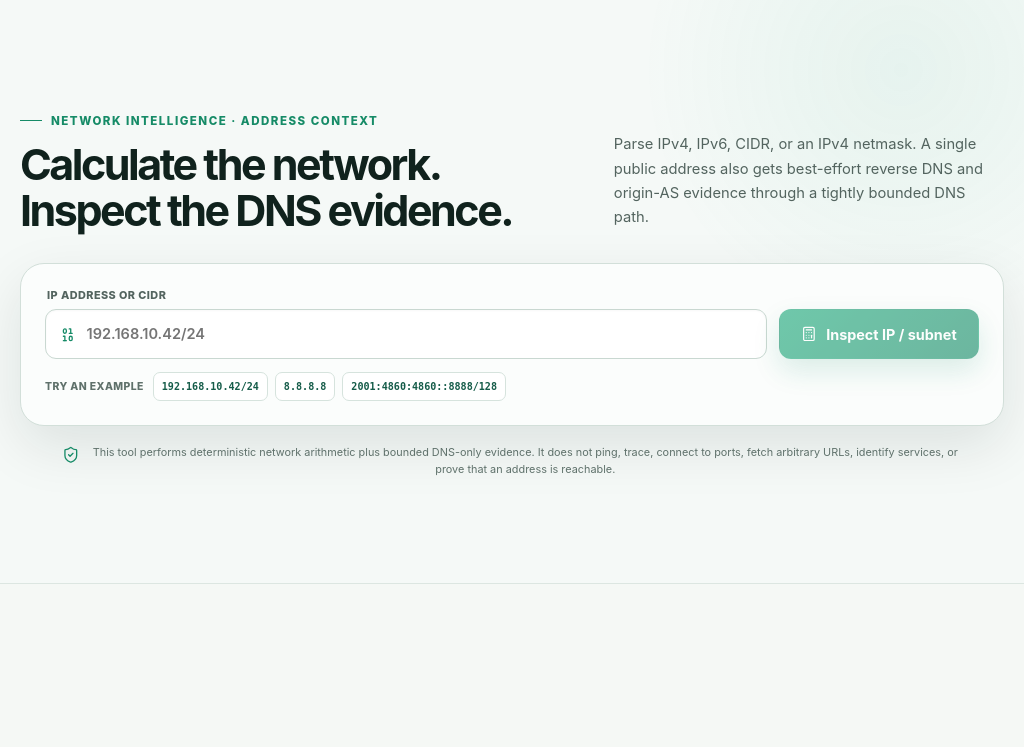
Test: IP and subnet interactions › shows sanitized API errors without retaining an old result
The width and height of the screenshot is (1024, 747).
Click the button "8.8.8.8". click: (305, 387)
box: [275, 372, 335, 401]
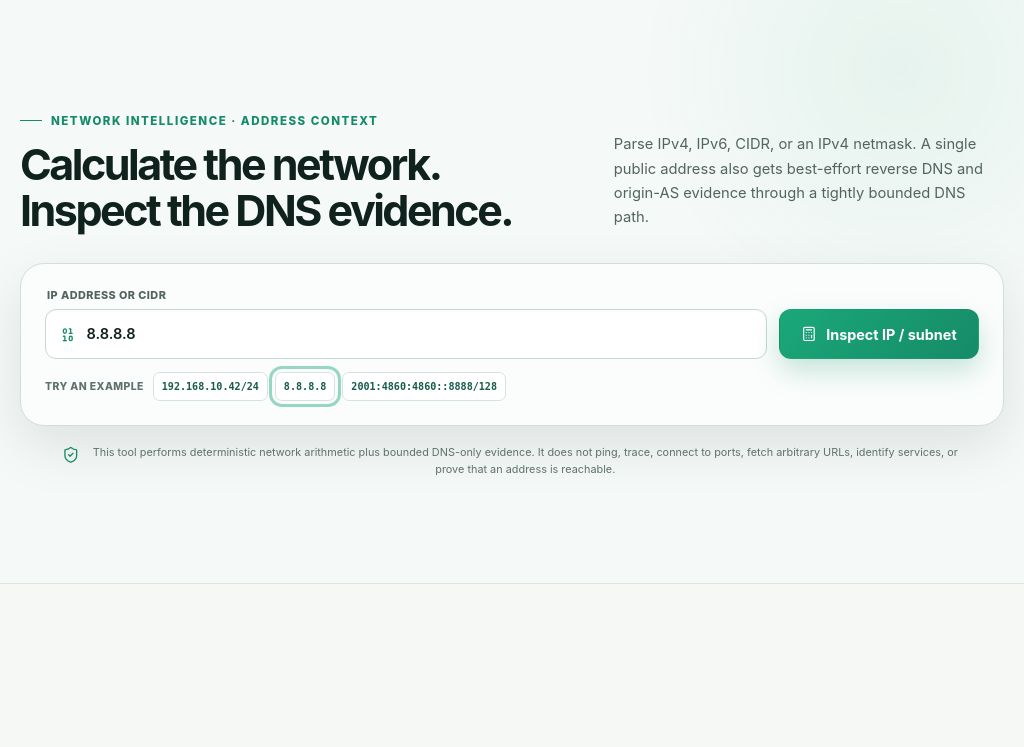
Click the button "Inspect IP / subnet". click: (879, 334)
box: [779, 309, 979, 359]
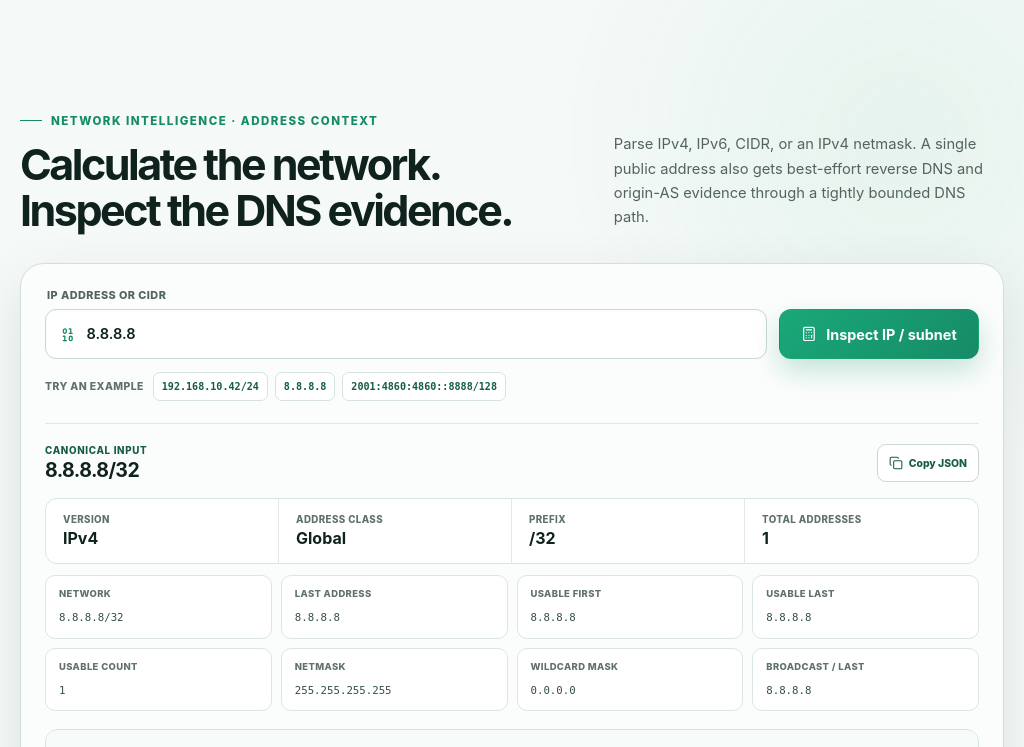
Replace the text in the field labelled "IP address or CIDR" with "example.com". click: (420, 334)
box: [87, 310, 753, 358]
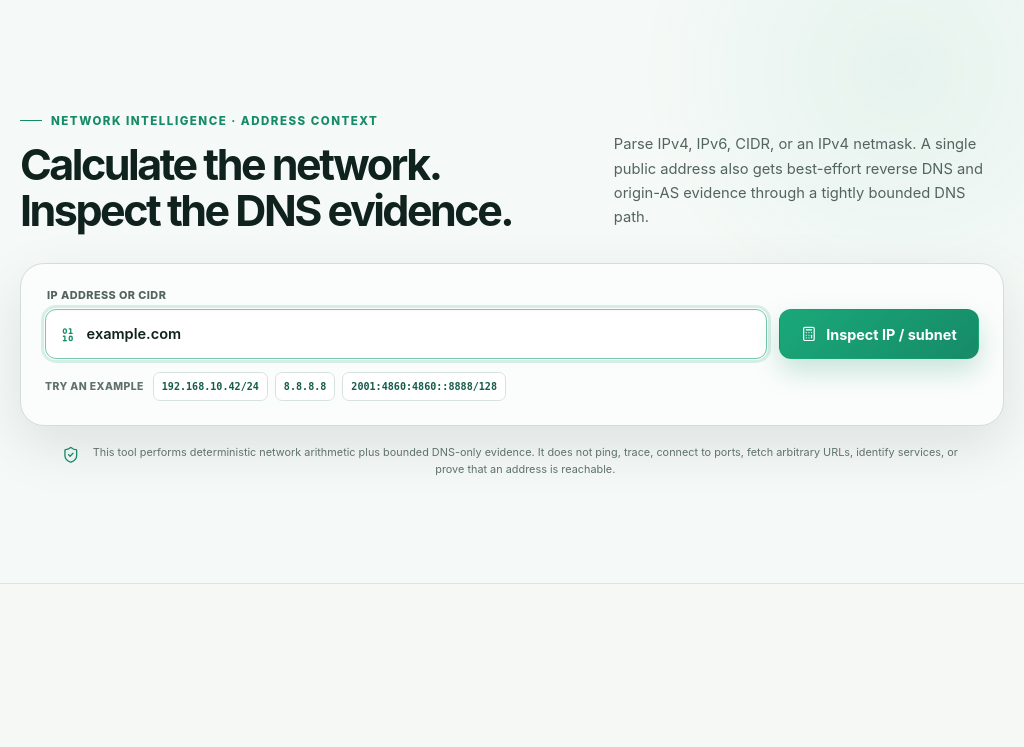
Click the button "Inspect IP / subnet". click: (879, 334)
box: [779, 309, 979, 359]
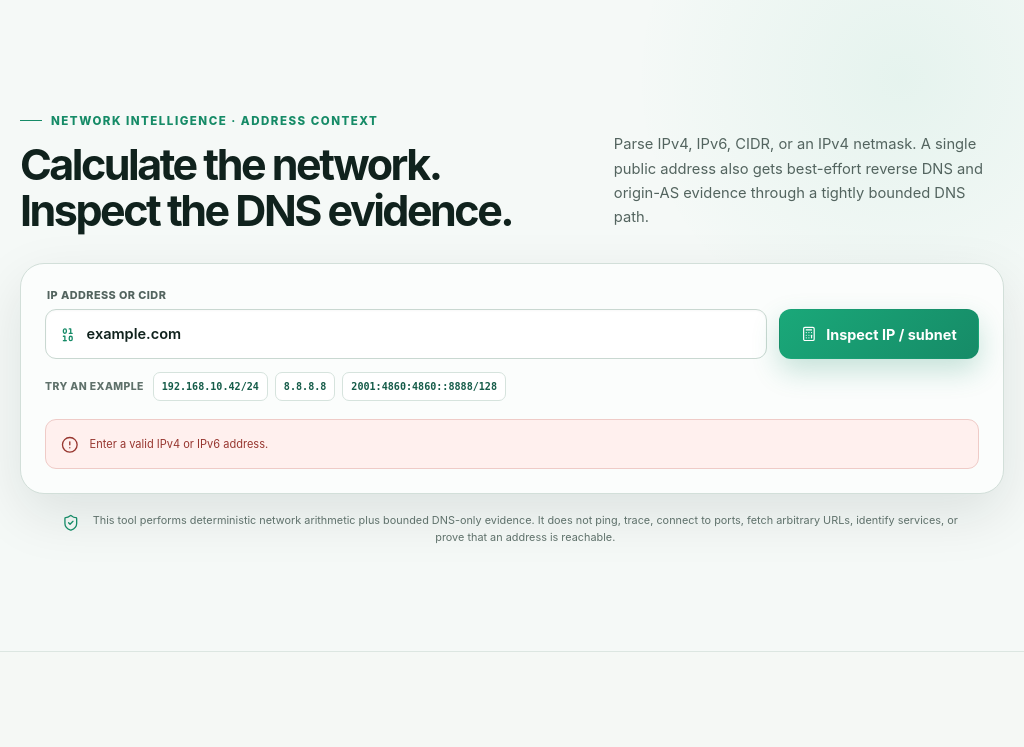
Expected: the message reads "Enter a valid IPv4 or IPv6 address.", [90, 437, 268, 451]
